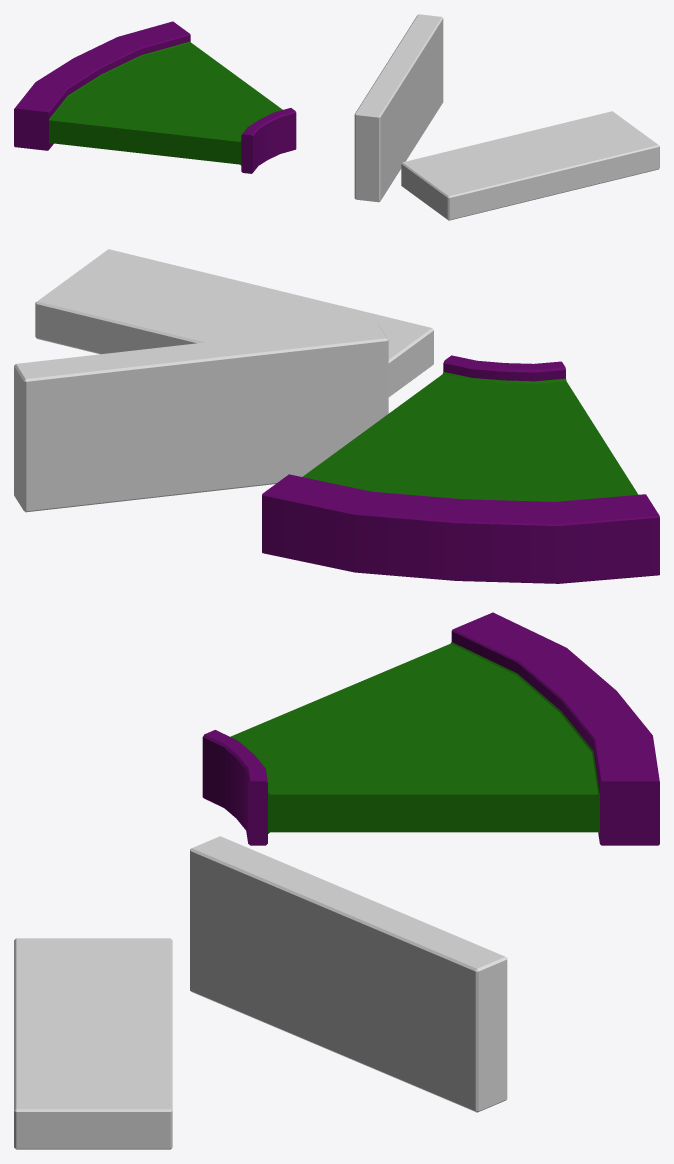
The model's file is SM_stage_d.fbx.
3 renders of one model, top to bottom at view 1: azimuth 30°, elevation 25°; view 2: azimuth 150°, elevation 25°; view 3: azimuth 270°, elevation 25°, orthographic. The views are drawn at different scales.
Visible parts, largest first — view 1: SM_stage_onequarter, SM_stage_wall_b, SM_stage_wall_a; view 2: SM_stage_onequarter, SM_stage_wall_a, SM_stage_wall_b; view 3: SM_stage_onequarter, SM_stage_wall_a, SM_stage_wall_b.
Part boxes in pixels (bbox=[...]): SM_stage_onequarter: bbox=[14, 21, 296, 173]; SM_stage_wall_b: bbox=[401, 111, 659, 220]; SM_stage_wall_a: bbox=[354, 14, 443, 202]; SM_stage_onequarter: bbox=[262, 355, 659, 583]; SM_stage_wall_a: bbox=[14, 323, 388, 512]; SM_stage_wall_b: bbox=[35, 249, 433, 396]; SM_stage_onequarter: bbox=[202, 612, 659, 845]; SM_stage_wall_a: bbox=[190, 836, 507, 1112]; SM_stage_wall_b: bbox=[14, 938, 172, 1149].
Size of the model in its own units: 13.29 by 2.39 by 8.89.
